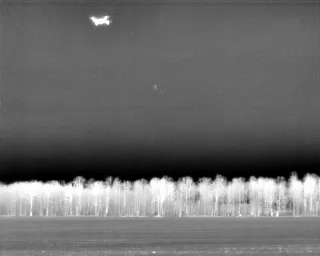DRONE: (86, 10, 115, 31)
